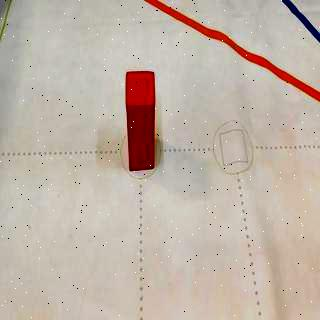redbox: (124, 69, 155, 173)
